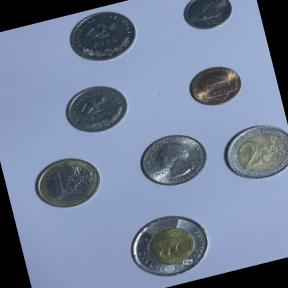1 Euro: (23, 147, 111, 221)
2 Euro: (212, 113, 288, 189)
Canda-10cent-: (174, 0, 241, 40)
Canda-2Dollar-: (120, 204, 220, 288)
Croatia-2Kune-: (60, 1, 144, 71)
US-1cent-: (180, 58, 250, 114)
US-25cent-: (130, 122, 216, 196)
